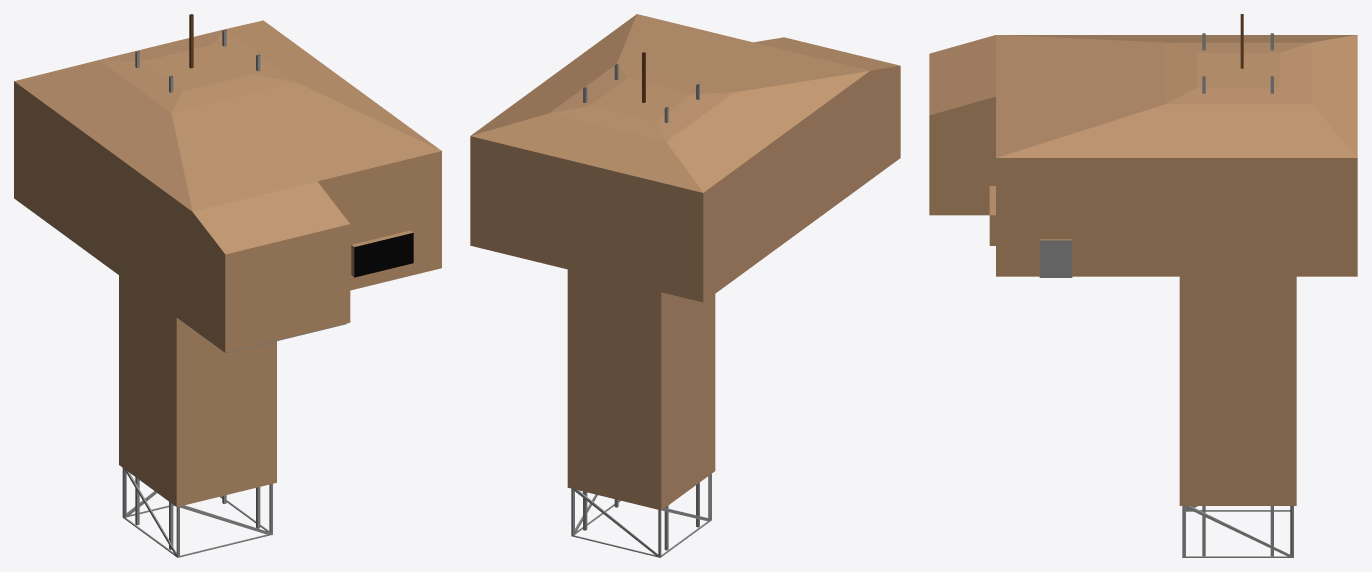
Rendered from SM_SafeZone.fbx.
3 views of the same model, side by side, from view 1: azimuth 30°, elevation 25°; view 2: azimuth 150°, elevation 25°; view 3: azimuth 270°, elevation 25° (orthographic). The views are drawn at different scales.
Visible parts, largest first — view 1: Plane, Girders.003, Beams.001; view 2: Plane, Girders.003, Beams.001; view 3: Plane, Girders.003, Beams.001.
Boxes of the visible parts, left/top/right/bottom form: Plane: left=14, top=20, right=441, bottom=506; Girders.003: left=122, top=468, right=272, bottom=557; Beams.001: left=135, top=29, right=260, bottom=549; Plane: left=470, top=14, right=900, bottom=510; Girders.003: left=571, top=474, right=711, bottom=557; Beams.001: left=583, top=64, right=699, bottom=550; Plane: left=929, top=35, right=1357, bottom=505; Girders.003: left=1182, top=506, right=1293, bottom=557; Beams.001: left=1202, top=33, right=1273, bottom=556.
Bounding box in the file's own units: 2509 × 4862 × 3645.
